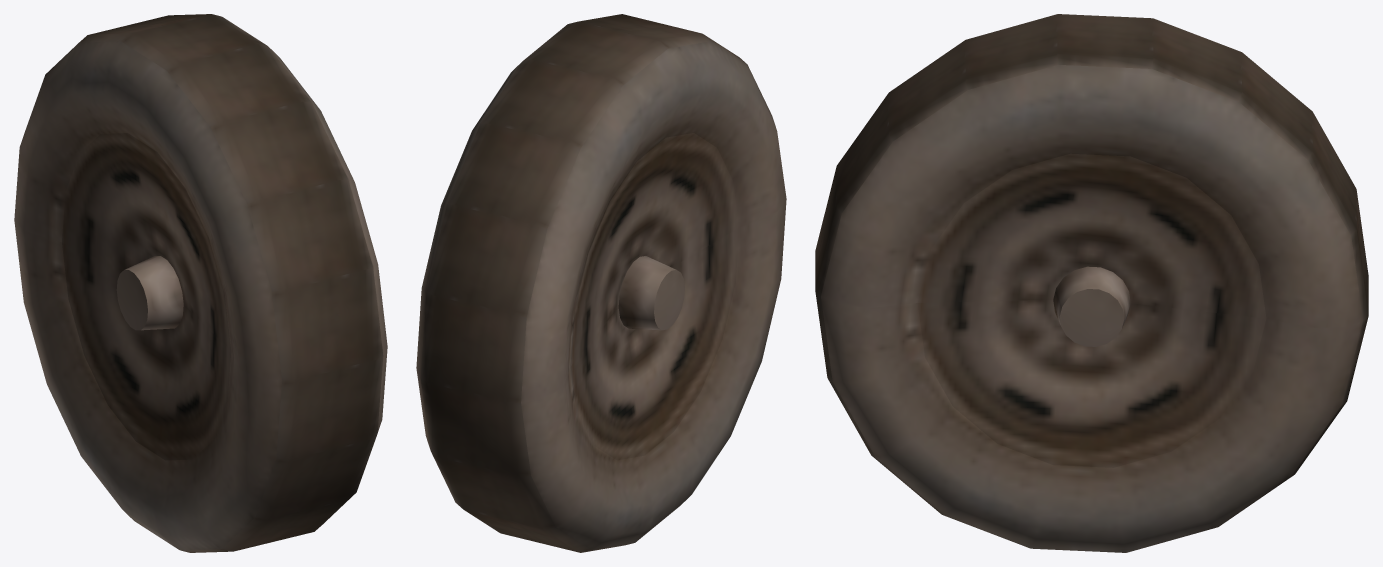
File: IZH_wheel.obj
3 views of the same model, side by side, from view 1: azimuth 30°, elevation 25°; view 2: azimuth 150°, elevation 25°; view 3: azimuth 270°, elevation 25° (orthographic). The views are drawn at different scales.
Parts seen in each view (by area): view 1: Cylinder.002; view 2: Cylinder.002; view 3: Cylinder.002.
Part boxes in pixels (x1,y1,x2,y2): Cylinder.002: [14, 14, 387, 552]; Cylinder.002: [416, 14, 786, 552]; Cylinder.002: [815, 14, 1368, 552].
Bounding box in the file's own units: 0.6056 × 2 × 2.01.
1 material, 1 textured.
